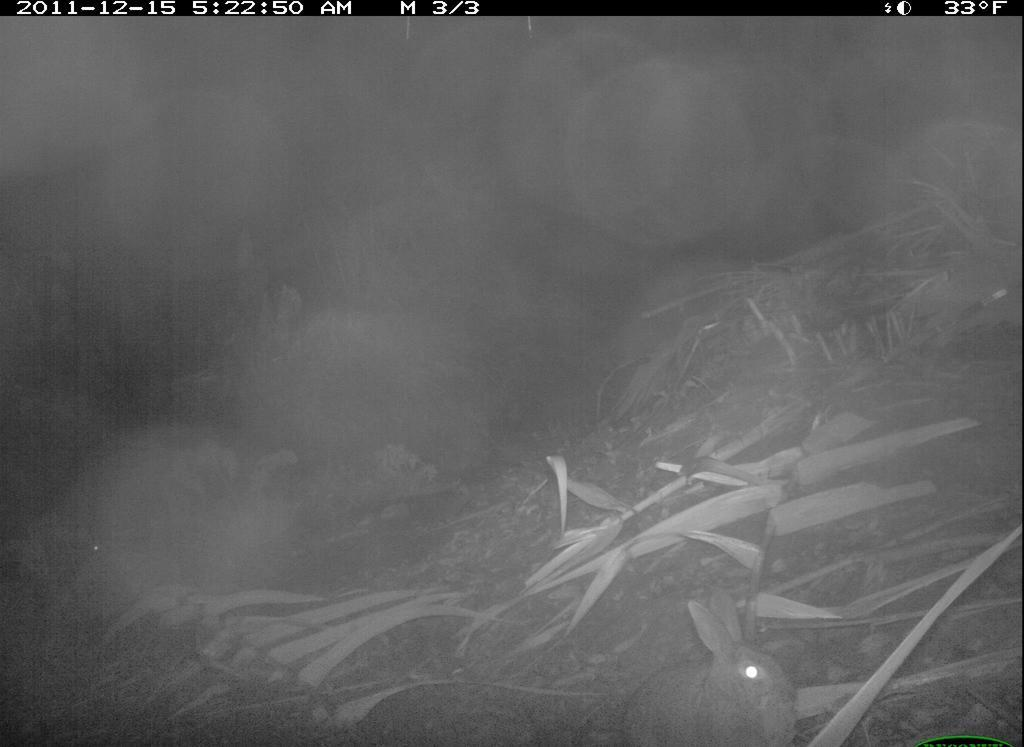rabbit: (624, 583, 799, 747)
